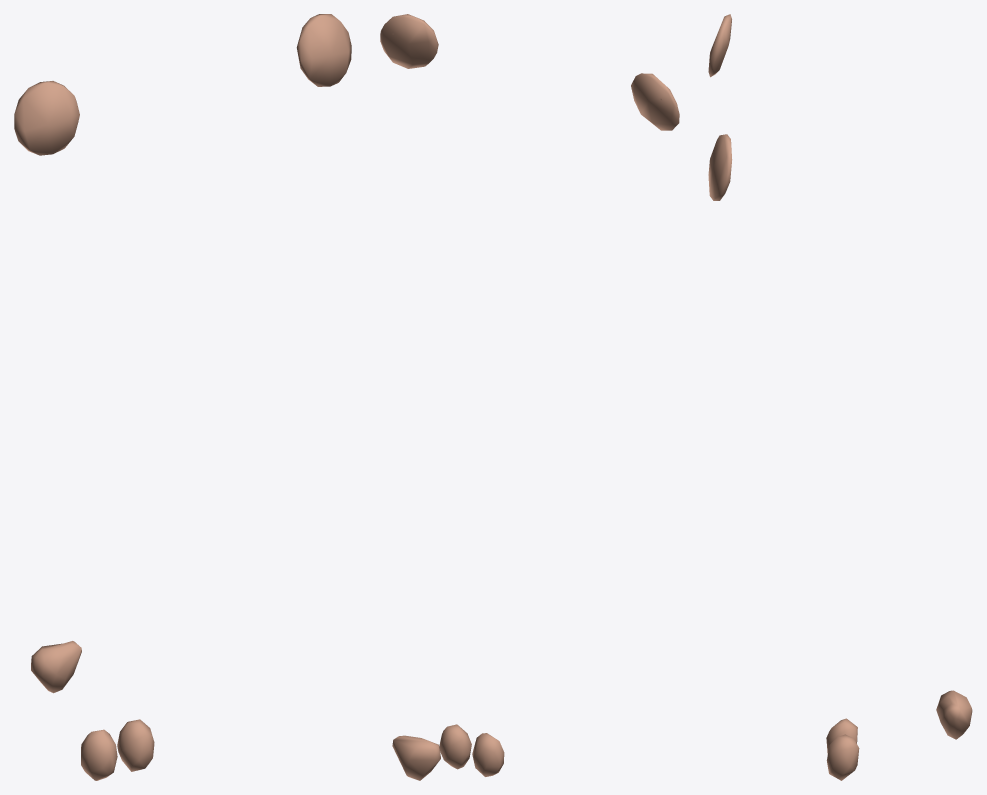
The model's file is pediatric_infant_male.reproductive.LOD3.glb.
The picture shows the model from 3 angles, left to right: view 1: azimuth 30°, elevation 25°; view 2: azimuth 150°, elevation 25°; view 3: azimuth 270°, elevation 25°; orthographic projection. The views are drawn at different scales.
Visible parts, largest first — view 1: PEDIATRIC.INFANT.MALE.REPRODUCTIVE.BREAST_ADIPOSE_TISSUE.R, PEDIATRIC.INFANT.MALE.REPRODUCTIVE.BREAST_ADIPOSE_TISSUE.L, PEDIATRIC.INFANT.MALE.REPRODUCTIVE.PROSTATE, PEDIATRIC.INFANT.MALE.REPRODUCTIVE.TESTIS.L, PEDIATRIC.INFANT.MALE.REPRODUCTIVE.TESTIS.R; view 2: PEDIATRIC.INFANT.MALE.REPRODUCTIVE.BREAST_ADIPOSE_TISSUE.L, PEDIATRIC.INFANT.MALE.REPRODUCTIVE.BREAST_ADIPOSE_TISSUE.R, PEDIATRIC.INFANT.MALE.REPRODUCTIVE.PROSTATE, PEDIATRIC.INFANT.MALE.REPRODUCTIVE.TESTIS.L, PEDIATRIC.INFANT.MALE.REPRODUCTIVE.TESTIS.R; view 3: PEDIATRIC.INFANT.MALE.REPRODUCTIVE.PROSTATE, PEDIATRIC.INFANT.MALE.REPRODUCTIVE.BREAST_ADIPOSE_TISSUE.L, PEDIATRIC.INFANT.MALE.REPRODUCTIVE.TESTIS.L, PEDIATRIC.INFANT.MALE.REPRODUCTIVE.BREAST_ADIPOSE_TISSUE.R, PEDIATRIC.INFANT.MALE.REPRODUCTIVE.TESTIS.R.
Part boxes in pixels (x1=…): PEDIATRIC.INFANT.MALE.REPRODUCTIVE.BREAST_ADIPOSE_TISSUE.R: x1=14, y1=81, x2=79, y2=155; PEDIATRIC.INFANT.MALE.REPRODUCTIVE.BREAST_ADIPOSE_TISSUE.L: x1=296, y1=14, x2=351, y2=86; PEDIATRIC.INFANT.MALE.REPRODUCTIVE.PROSTATE: x1=31, y1=641, x2=81, y2=693; PEDIATRIC.INFANT.MALE.REPRODUCTIVE.TESTIS.L: x1=117, y1=719, x2=154, y2=771; PEDIATRIC.INFANT.MALE.REPRODUCTIVE.TESTIS.R: x1=81, y1=729, x2=117, y2=780; PEDIATRIC.INFANT.MALE.REPRODUCTIVE.BREAST_ADIPOSE_TISSUE.L: x1=380, y1=14, x2=438, y2=68; PEDIATRIC.INFANT.MALE.REPRODUCTIVE.BREAST_ADIPOSE_TISSUE.R: x1=631, y1=73, x2=679, y2=130; PEDIATRIC.INFANT.MALE.REPRODUCTIVE.PROSTATE: x1=392, y1=735, x2=440, y2=780; PEDIATRIC.INFANT.MALE.REPRODUCTIVE.TESTIS.L: x1=439, y1=724, x2=471, y2=769; PEDIATRIC.INFANT.MALE.REPRODUCTIVE.TESTIS.R: x1=472, y1=733, x2=504, y2=776; PEDIATRIC.INFANT.MALE.REPRODUCTIVE.PROSTATE: x1=936, y1=690, x2=972, y2=739; PEDIATRIC.INFANT.MALE.REPRODUCTIVE.BREAST_ADIPOSE_TISSUE.L: x1=708, y1=134, x2=732, y2=200; PEDIATRIC.INFANT.MALE.REPRODUCTIVE.TESTIS.L: x1=826, y1=734, x2=859, y2=780; PEDIATRIC.INFANT.MALE.REPRODUCTIVE.BREAST_ADIPOSE_TISSUE.R: x1=708, y1=14, x2=731, y2=77; PEDIATRIC.INFANT.MALE.REPRODUCTIVE.TESTIS.R: x1=826, y1=718, x2=857, y2=754.
Size of the model in its own units: 0.1076 by 0.2355 by 0.0812.
